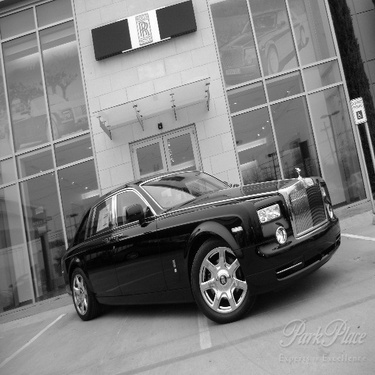car: (60, 166, 356, 321)
